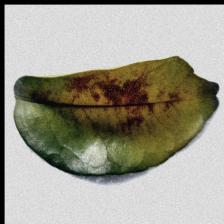canker: (36, 68, 168, 127)
